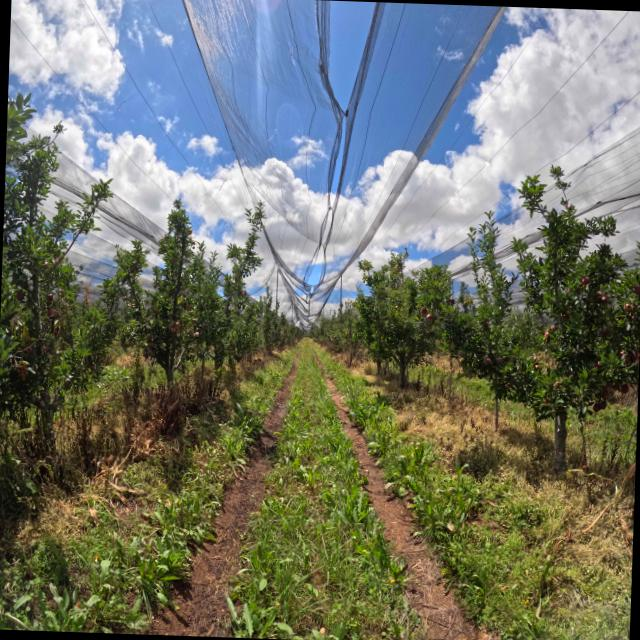-FireBlight-: (50, 298, 70, 334)
